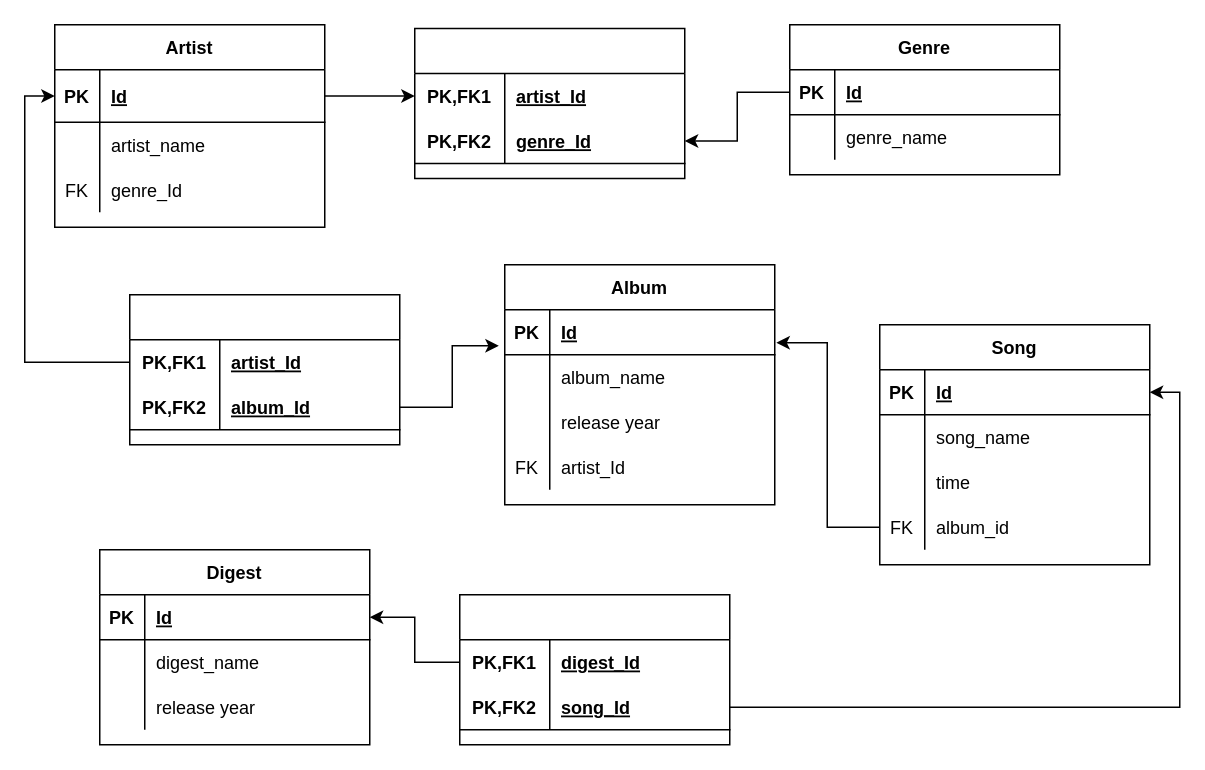
Some shapes in this 1205 by 770 pixel diagram are drawn without their labels. Here are the shapes that lost their labels. From the top down, the box of each, then its label:
(413, 27, 685, 178): Artist_Genre
(128, 293, 400, 445): Artist_Album
(458, 593, 730, 745): Digest_Song
